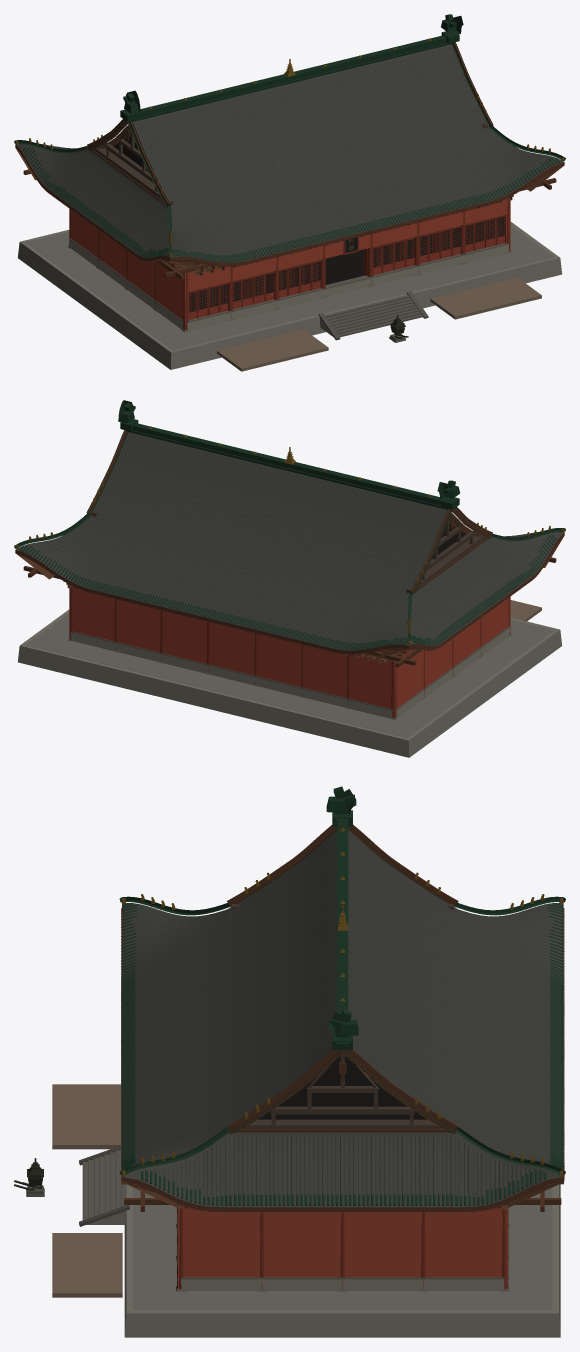
The model's file is jin-02-chongfusi-mitudian.glb.
The picture shows the model from 3 angles, top to bottom: view 1: azimuth 30°, elevation 25°; view 2: azimuth 150°, elevation 25°; view 3: azimuth 270°, elevation 25°; orthographic projection. The views are drawn at different scales.
Parts seen in each view (by area): view 1: 瓦垄（筒瓦+剪边）, 屋面（瓦面+望板）, 台基, 墙体, 屋脊与脊饰, 门内暗部, 花坛, 砖砌墙基, 隔扇门, 格心棂条, 山花与博风板, 踏跺 (+3 smaller); view 2: 瓦垄（筒瓦+剪边）, 屋面（瓦面+望板）, 台基, 墙体, 屋脊与脊饰, 砖砌墙基, 山花与博风板, 檐柱与柱础, 檐椽与飞椽, 檐口勾头滴水, 花坛; view 3: 瓦垄（筒瓦+剪边）, 屋面（瓦面+望板）, 台基, 墙体, 山花与博风板, 花坛, 屋脊与脊饰, 砖砌墙基, 踏跺, 檐柱与柱础, 檐椽与飞椽, 檐口勾头滴水.
Boxes of the visible parts, <box> form: 瓦垄（筒瓦+剪边）: <box>20,46,559,261</box>; 屋面（瓦面+望板）: <box>15,44,564,270</box>; 台基: <box>17,222,562,369</box>; 墙体: <box>69,198,510,330</box>; 屋脊与脊饰: <box>14,14,565,256</box>; 门内暗部: <box>189,217,504,312</box>; 花坛: <box>217,277,541,371</box>; 砖砌墙基: <box>69,238,509,330</box>; 隔扇门: <box>189,215,504,319</box>; 格心棂条: <box>189,216,504,312</box>; 山花与博风板: <box>87,42,492,207</box>; 踏跺: <box>318,291,428,340</box>; 瓦垄（筒瓦+剪边）: <box>20,434,558,649</box>; 屋面（瓦面+望板）: <box>15,432,564,658</box>; 台基: <box>18,609,562,757</box>; 墙体: <box>69,586,510,717</box>; 屋脊与脊饰: <box>14,400,565,644</box>; 砖砌墙基: <box>70,626,510,718</box>; 山花与博风板: <box>87,430,492,595</box>; 檐柱与柱础: <box>68,587,511,719</box>; 檐椽与飞椽: <box>18,535,563,667</box>; 檐口勾头滴水: <box>20,530,556,649</box>; 花坛: <box>510,600,541,621</box>; 瓦垄（筒瓦+剪边）: <box>123,830,561,1204</box>; 屋面（瓦面+望板）: <box>121,832,564,1212</box>; 台基: <box>124,1184,560,1337</box>; 墙体: <box>178,1208,507,1288</box>; 山花与博风板: <box>227,824,458,1133</box>; 花坛: <box>52,1084,122,1297</box>; 屋脊与脊饰: <box>119,786,565,1176</box>; 砖砌墙基: <box>176,1208,508,1290</box>; 踏跺: <box>79,1145,129,1226</box>; 檐柱与柱础: <box>176,1207,509,1291</box>; 檐椽与飞椽: <box>121,909,564,1212</box>; 檐口勾头滴水: <box>122,905,563,1205</box>.
Bounding box in the file's own units: 10 × 5.1 × 8.45.
